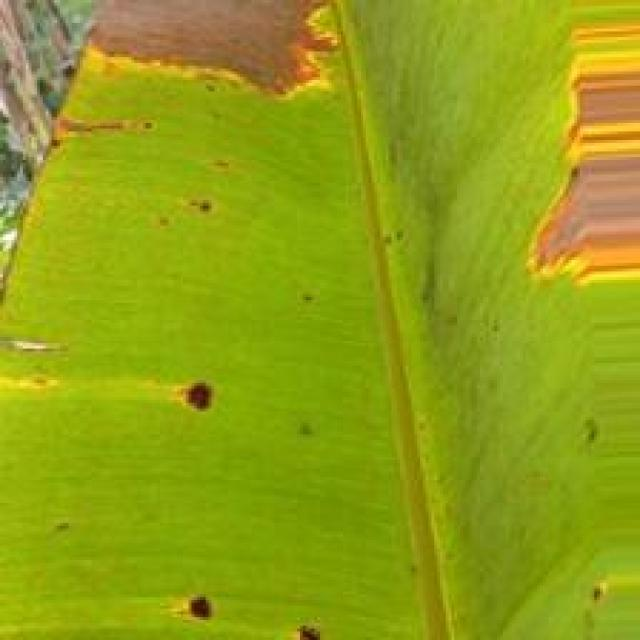Bacterial_spot: (75, 0, 373, 116), (525, 14, 640, 297), (48, 100, 184, 152), (0, 329, 89, 403), (156, 366, 234, 443), (125, 182, 243, 228), (165, 580, 220, 633), (274, 613, 336, 640)
